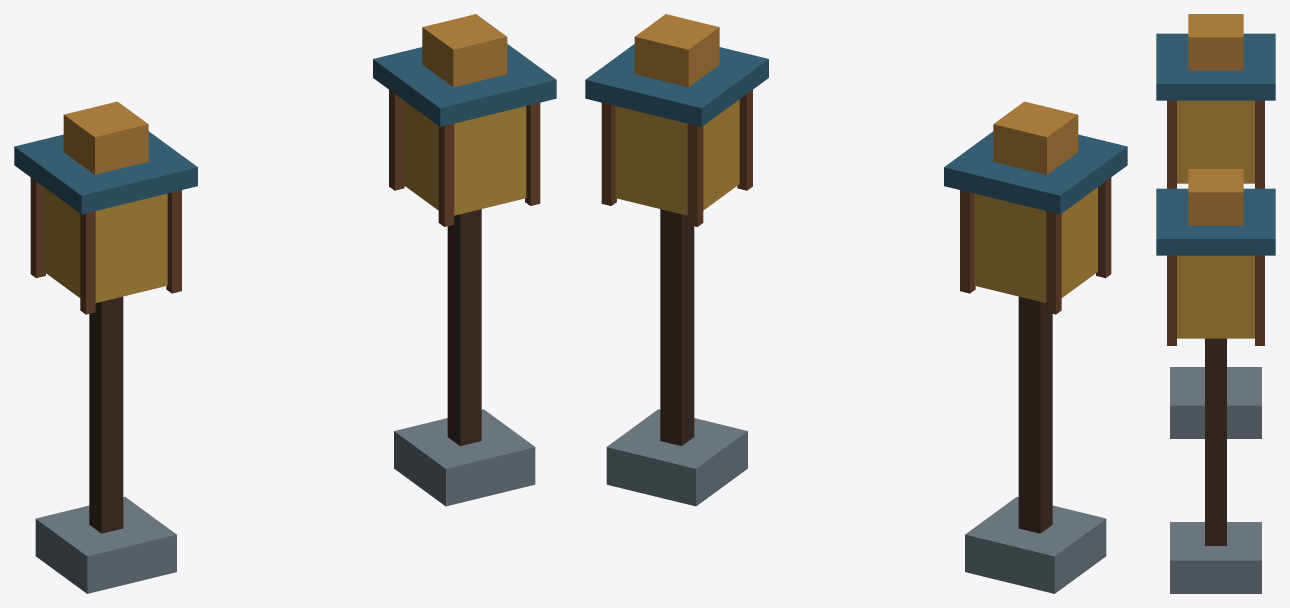
Rendered from Blockland_LanternPair_Showcase.glb.
3 views of the same model, side by side, from view 1: azimuth 30°, elevation 25°; view 2: azimuth 150°, elevation 25°; view 3: azimuth 270°, elevation 25° (orthographic). The views are drawn at different scales.
Visible parts, largest first — view 1: Blockland_LanternPair_Showcase; view 2: Blockland_LanternPair_Showcase; view 3: Blockland_LanternPair_Showcase.
Boxes of the visible parts, bbox=[...] form: Blockland_LanternPair_Showcase: bbox=[14, 14, 556, 593]; Blockland_LanternPair_Showcase: bbox=[585, 14, 1127, 593]; Blockland_LanternPair_Showcase: bbox=[1156, 14, 1275, 593].
Size of the model in its own units: 2.65 by 2.37 by 0.65.
